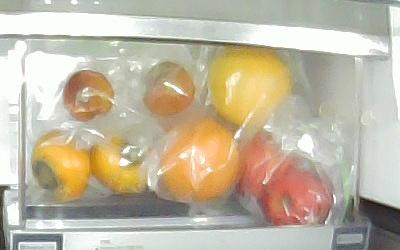apple_vinyl: (261, 158, 333, 225), (239, 130, 293, 199)
grapefruit_vinyl: (159, 117, 238, 202), (209, 48, 292, 127)
persimmon_vinyl: (32, 131, 90, 201), (91, 134, 148, 193)
prune_vinyl: (144, 62, 195, 115), (65, 70, 114, 121)
